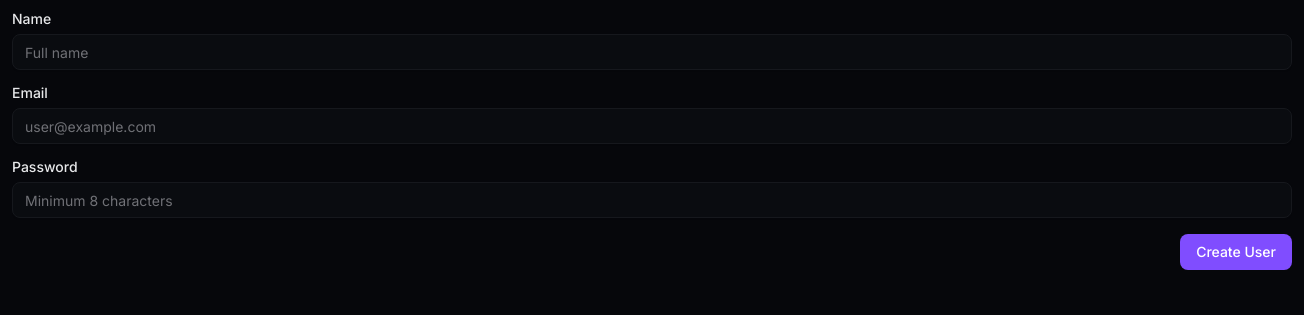
it: UserForm — create mode › should show validation error for short name
In the field labelled "Name": coordinates (652, 52) left=12, top=34, right=1292, bottom=70, type "Ab"
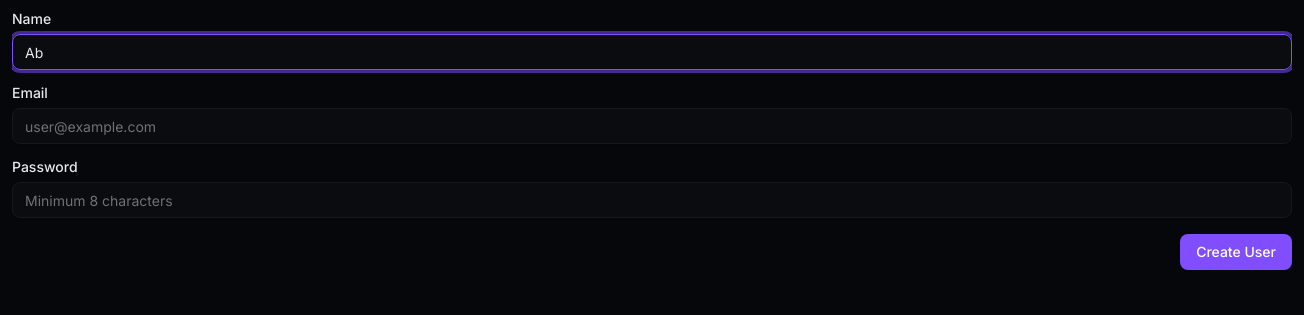
In the field labelled "Email": coordinates (652, 126) left=12, top=108, right=1292, bottom=144, type "john@example.com"
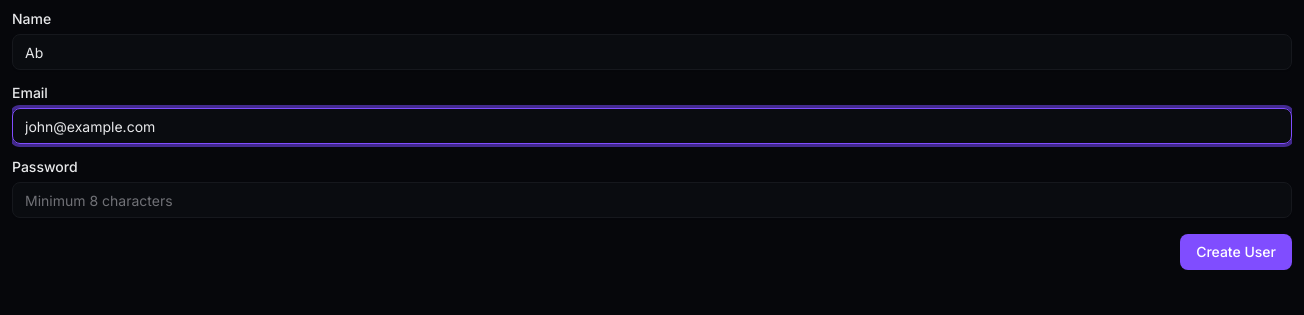
In the password field labelled "Password": coordinates (652, 200) left=12, top=182, right=1292, bottom=218, type "password123"
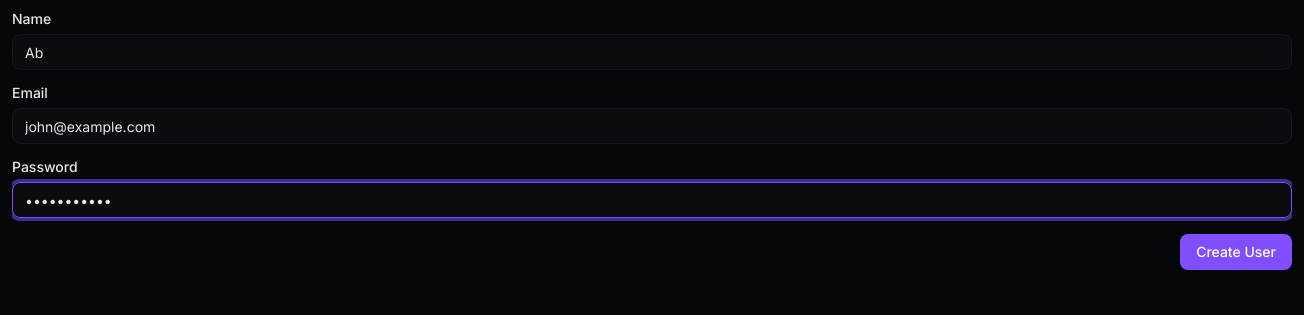
Click the button "Create User": coordinates (1236, 252) left=1180, top=234, right=1292, bottom=270
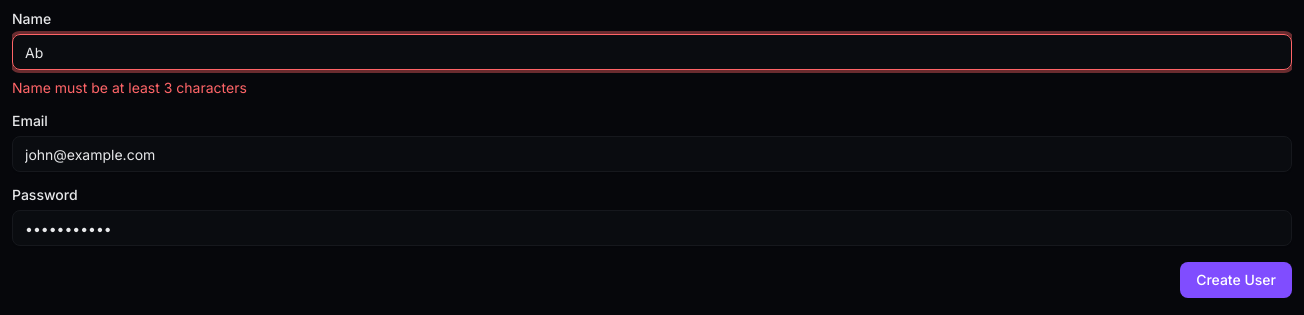
Expected: the text "Name must be at least 3 characters" is shown, left=12, top=79, right=247, bottom=96
